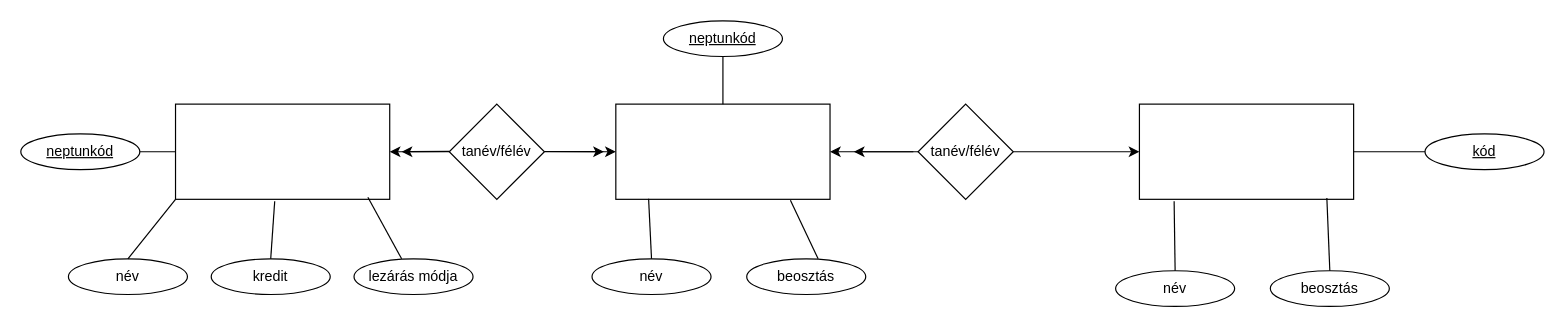
The diagram is 1565 pixels wide and 327 high, and some of its shapes have lost their labels. The shapes that lost their labels are listed below. From the top down, each one's centre as x and y in pixels, then its label:
At point (282, 151): "Tantárgy".
At point (722, 151): "Oktató".
At point (1246, 151): "Tanszék".
